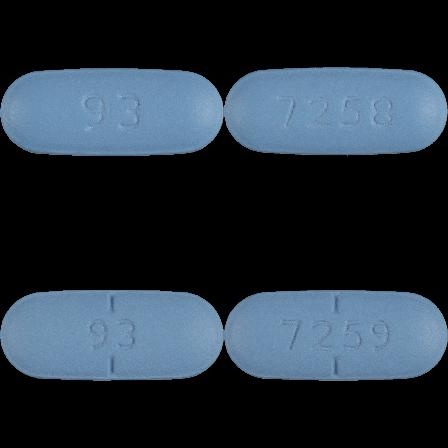0093-7258: (0, 0, 224, 224)
